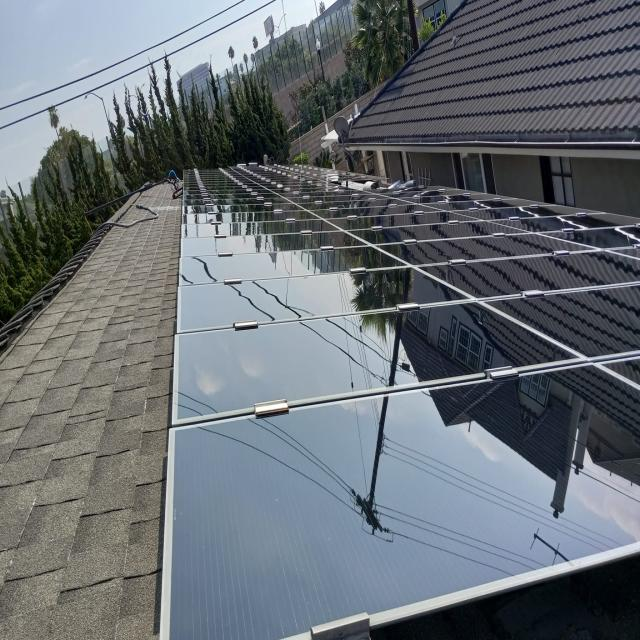clean-solar-panel: (171, 391, 640, 638)
